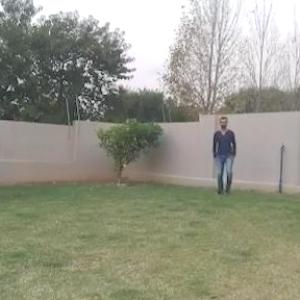follow: (212, 116, 234, 200)
